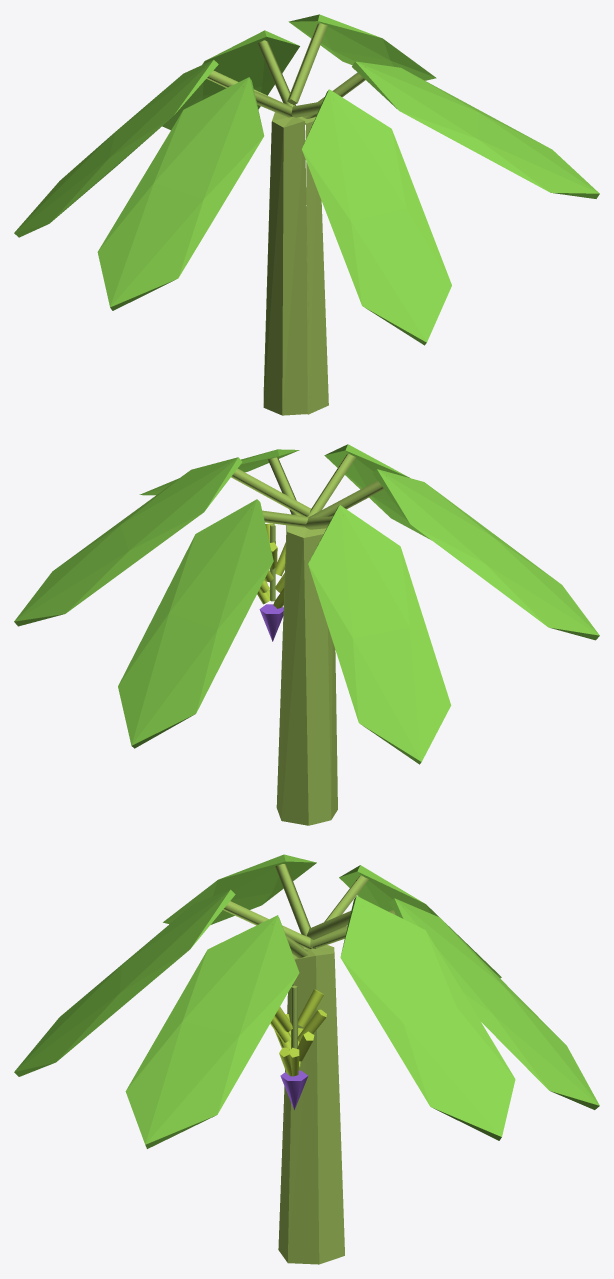
File: platanera.glb
The picture shows the model from 3 angles, top to bottom: view 1: azimuth 30°, elevation 25°; view 2: azimuth 150°, elevation 25°; view 3: azimuth 270°, elevation 25°; orthographic projection. The views are drawn at different scales.
Visible parts, largest first — view 1: lamina (×6), tallo, peciolo (×2); view 2: lamina (×6), tallo, peciolo (×4), bellota; view 3: lamina (×6), tallo, peciolo (×4), bellota.
Boxes of the visible parts, x1,y1,x2,y2 form: lamina (×6): (14, 14, 599, 345); tallo: (263, 105, 328, 415); peciolo (×2): (257, 23, 327, 107); lamina (×6): (14, 444, 599, 764); tallo: (276, 525, 337, 825); peciolo (×4): (228, 454, 386, 527); bellota: (259, 604, 283, 641); lamina (×6): (14, 854, 599, 1148); tallo: (278, 945, 344, 1264); peciolo (×4): (223, 864, 368, 949); bellota: (280, 1070, 307, 1109).
Bounding box in the file's own units: 3.23 × 2.39 × 3.34.
